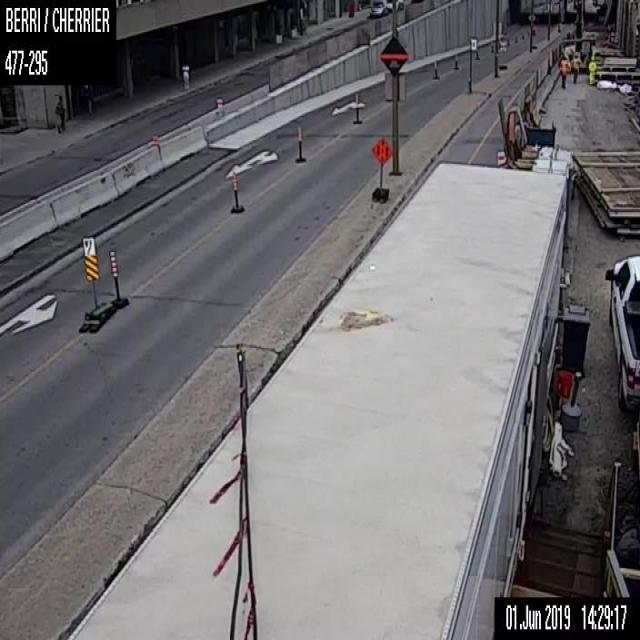construction: (370, 136, 392, 203), (109, 247, 119, 300), (494, 148, 506, 168), (232, 173, 238, 208), (297, 127, 301, 157), (355, 94, 358, 122), (434, 57, 437, 76), (454, 50, 457, 66), (490, 38, 494, 50), (476, 46, 479, 58)
pedestrian: (54, 94, 66, 134), (558, 53, 570, 88), (570, 52, 579, 82), (588, 55, 596, 84)
vehicle: (605, 252, 639, 415), (370, 0, 388, 15)
